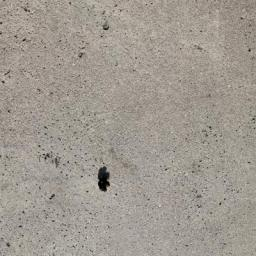FOD: (94, 166, 116, 194)
